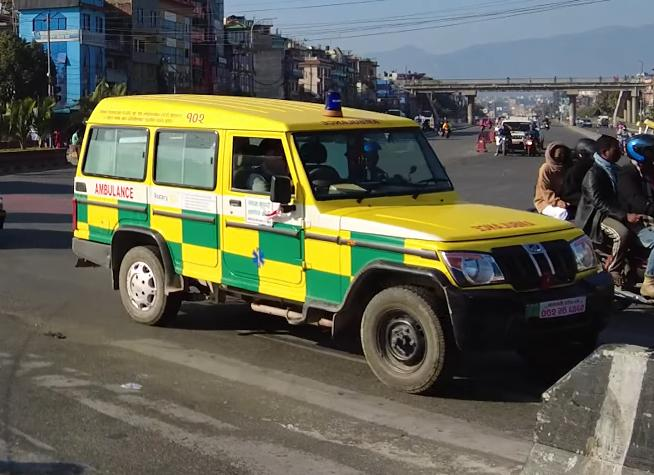ambulance: (66, 89, 620, 403)
